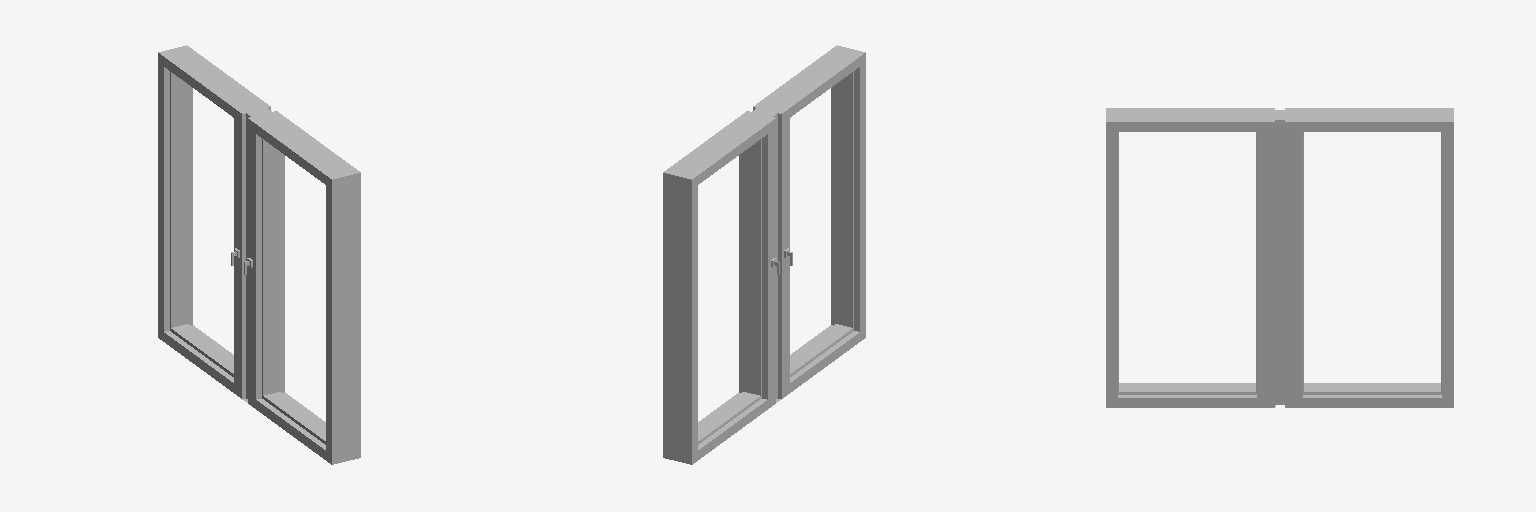
File: window.obj
The picture shows the model from 3 angles: view 1: azimuth 30°, elevation 25°; view 2: azimuth 150°, elevation 25°; view 3: azimuth 270°, elevation 25°; orthographic projection.
Parts seen in each view (by area): view 1: off; view 2: off; view 3: off.
Boxes of the visible parts, <box> form: off: <box>158,45,360,464</box>; off: <box>663,45,865,464</box>; off: <box>1106,108,1453,407</box>.
Size of the model in its own units: 0.186 by 1.4 by 1.55.